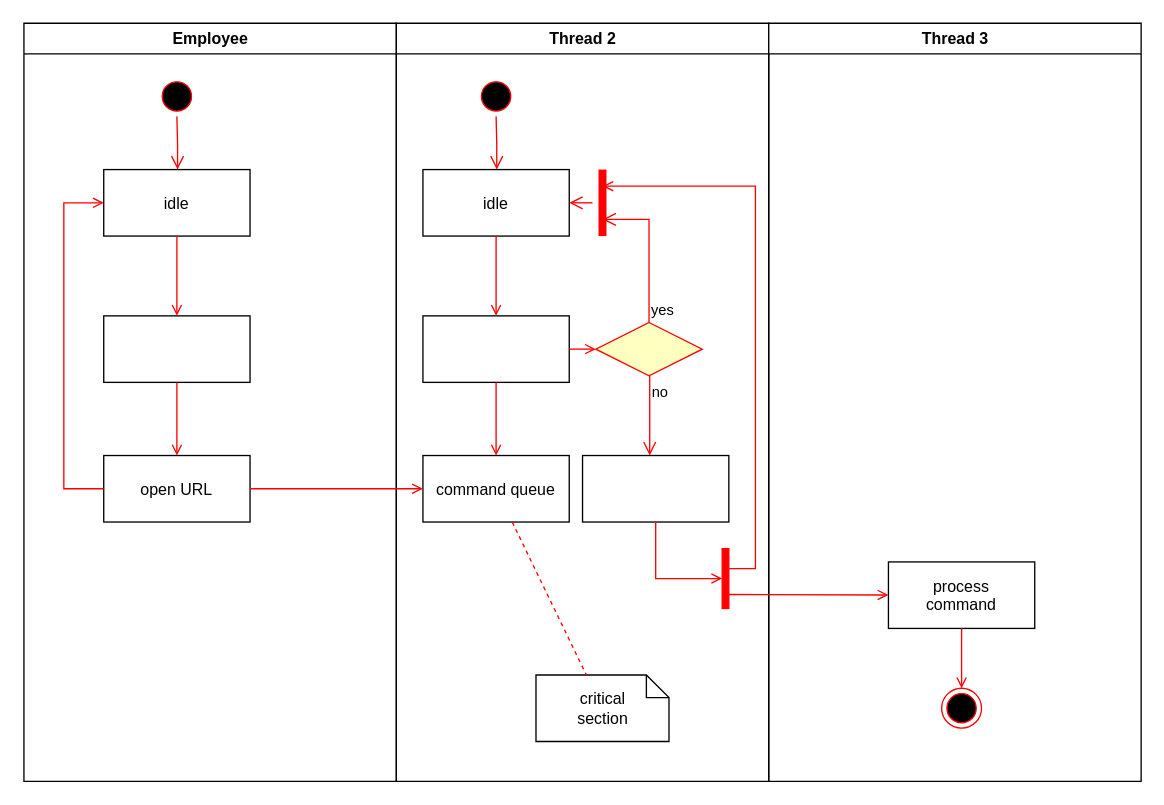
Some shapes in this 1164 by 805 pixel diagram are drawn without their labels. The centre of each missing label's shape, as x and y in pixels:
check for new commands: (495,348)
dispatch command worker thread: (655,488)
queue empty: (648,348)
scan QR code: (176,348)
